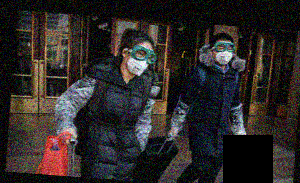with_mask: (126, 46, 156, 78), (213, 41, 234, 65)
